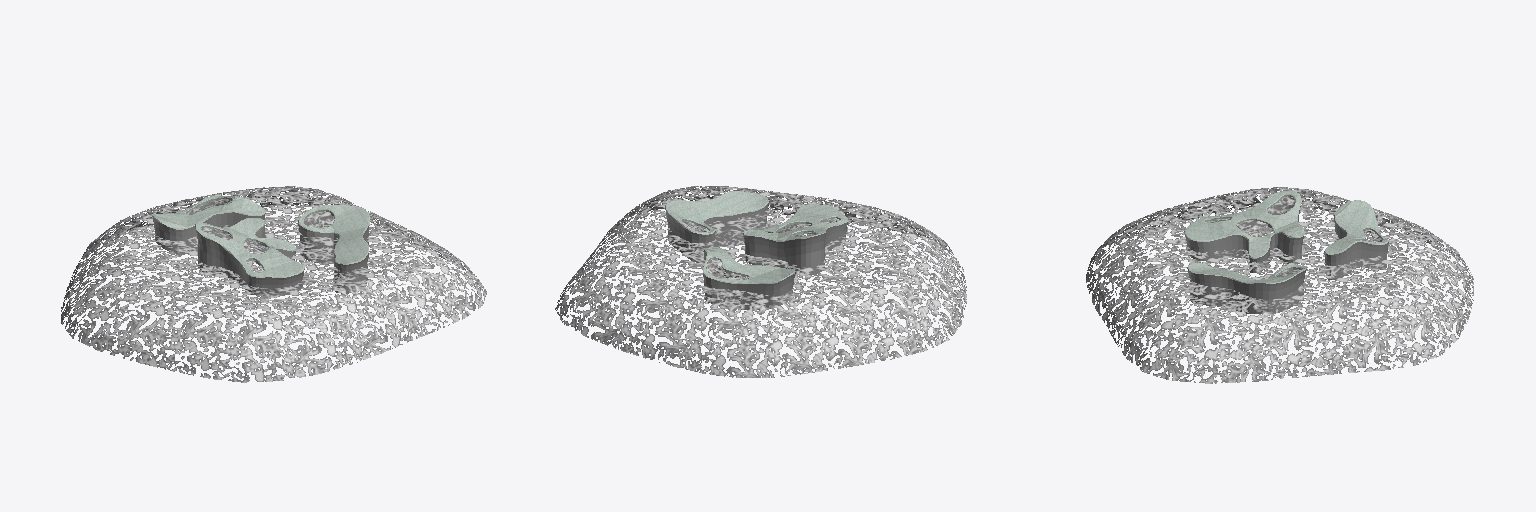
The picture shows the model from 3 angles: view 1: azimuth 30°, elevation 25°; view 2: azimuth 150°, elevation 25°; view 3: azimuth 270°, elevation 25°; orthographic projection.
Visible parts, largest first — view 1: Plane.003_Plane.006, Plane.000, Plane.001_Plane.008; view 2: Plane.003_Plane.006, Plane.000, Plane.001_Plane.008; view 3: Plane.003_Plane.006, Plane.000, Plane.001_Plane.008.
Boxes of the visible parts, x1,y1,x2,y2 form: Plane.003_Plane.006: [61, 186, 486, 382]; Plane.000: [152, 196, 369, 277]; Plane.001_Plane.008: [152, 201, 368, 295]; Plane.003_Plane.006: [555, 186, 966, 377]; Plane.000: [665, 191, 847, 283]; Plane.001_Plane.008: [666, 203, 847, 309]; Plane.003_Plane.006: [1086, 187, 1473, 383]; Plane.000: [1184, 190, 1388, 283]; Plane.001_Plane.008: [1185, 198, 1388, 313].
Bounding box in the file's own units: 15077 × 3063 × 13914.
Materials: 3 (2 with a texture image).